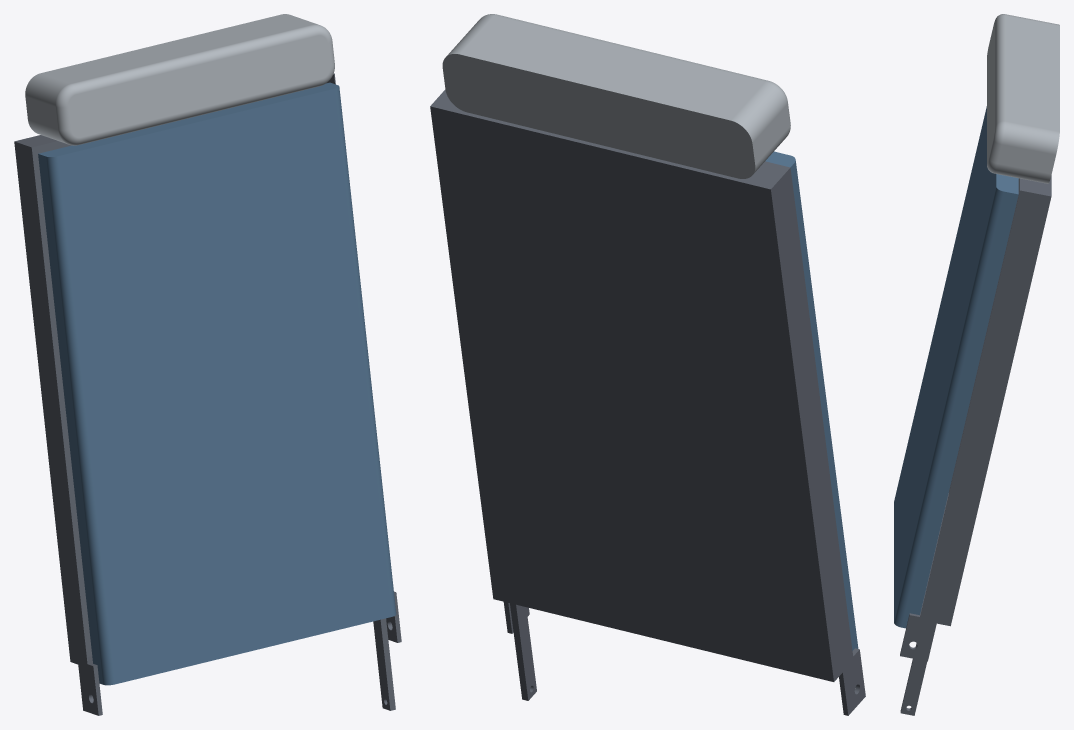
The model's file is step_03.glb.
3 views of the same model, side by side, from view 1: azimuth 30°, elevation 25°; view 2: azimuth 150°, elevation 25°; view 3: azimuth 270°, elevation 25° (orthographic). The views are drawn at different scales.
Visible parts, largest first — view 1: part__back cushion cover, part__head rest, part__back shell; view 2: part__back shell, part__head rest, part__back cushion cover; view 3: part__back cushion cover, part__back shell, part__head rest.
Part boxes in pixels (box(x1,y1,x2,y2)): part__back cushion cover: box(38, 82, 396, 685); part__head rest: box(25, 14, 334, 145); part__back shell: box(14, 73, 401, 715); part__back shell: box(430, 89, 865, 715); part__head rest: box(442, 14, 790, 178); part__back cushion cover: box(765, 151, 858, 650); part__back cushion cover: box(894, 106, 1018, 628); part__back shell: box(900, 175, 1051, 715); part__head rest: box(987, 14, 1059, 183).
Size of the model in its own units: 440 by 903 by 233.
